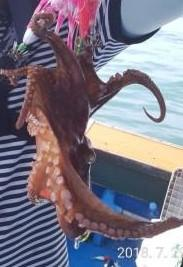Cephalopod: (0, 13, 182, 239)
